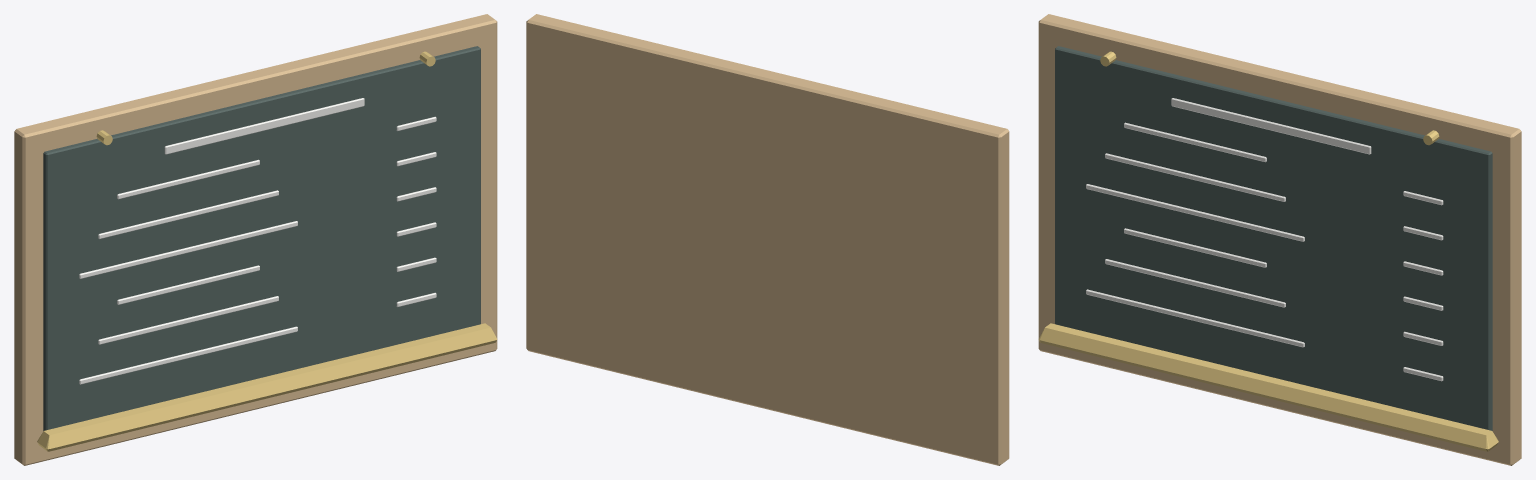
Rendered from butchers-shop-and-deli-counter-chalkboard-menu-19e1bbd7__34437.glb.
3 renders of one model, left to right at view 1: azimuth 30°, elevation 25°; view 2: azimuth 150°, elevation 25°; view 3: azimuth 330°, elevation 25°, orthographic.
Parts seen in each view (by area): view 1: chalkboard-menu; view 2: chalkboard-menu; view 3: chalkboard-menu.
Boxes of the visible parts, bbox=[...] form: chalkboard-menu: bbox=[14, 14, 497, 465]; chalkboard-menu: bbox=[526, 14, 1009, 465]; chalkboard-menu: bbox=[1038, 14, 1521, 465].
Bounding box in the file's own units: 1.2 × 0.8 × 0.0975.
